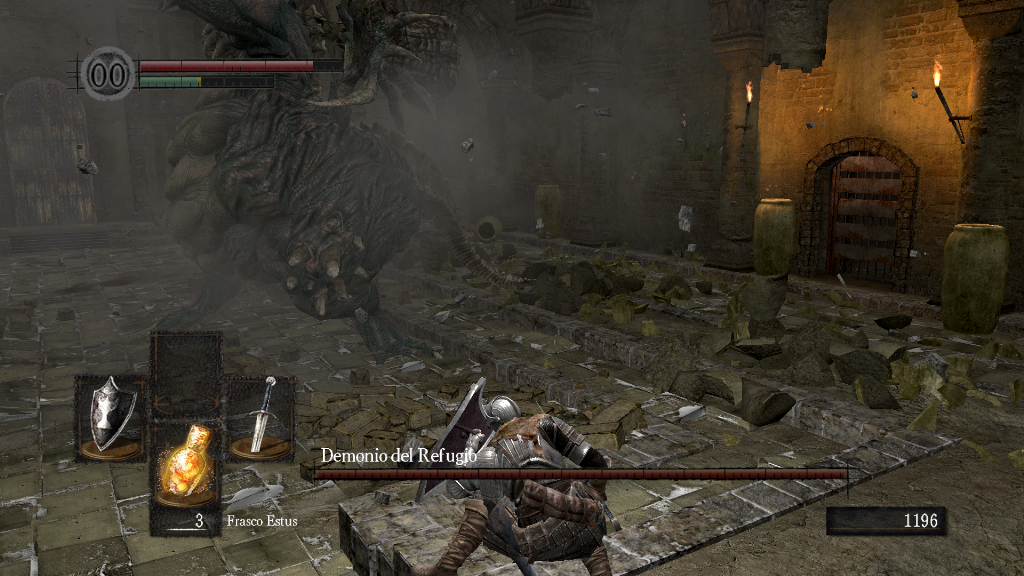asylumDemon: (159, 1, 549, 367)
bossHP: (314, 469, 847, 479)
health: (138, 58, 343, 71)
humanity: (80, 45, 136, 102)
player: (414, 376, 619, 576)
souls: (825, 506, 945, 536)
stamina: (138, 74, 274, 88)
